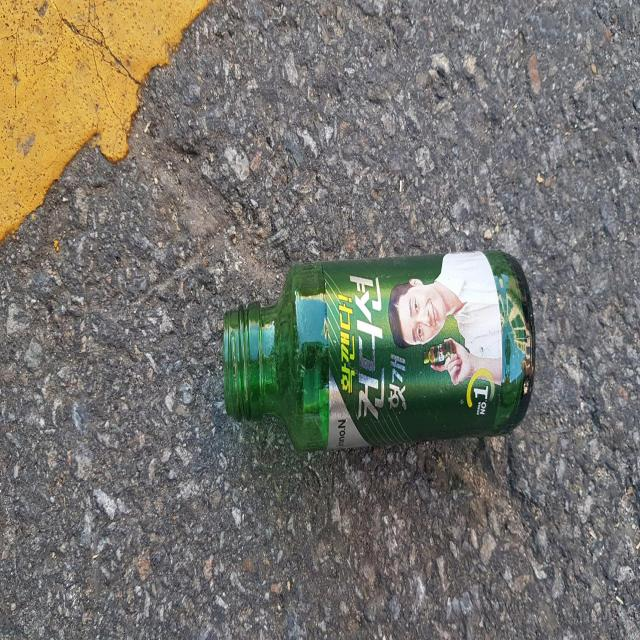glass: (224, 249, 537, 449)
